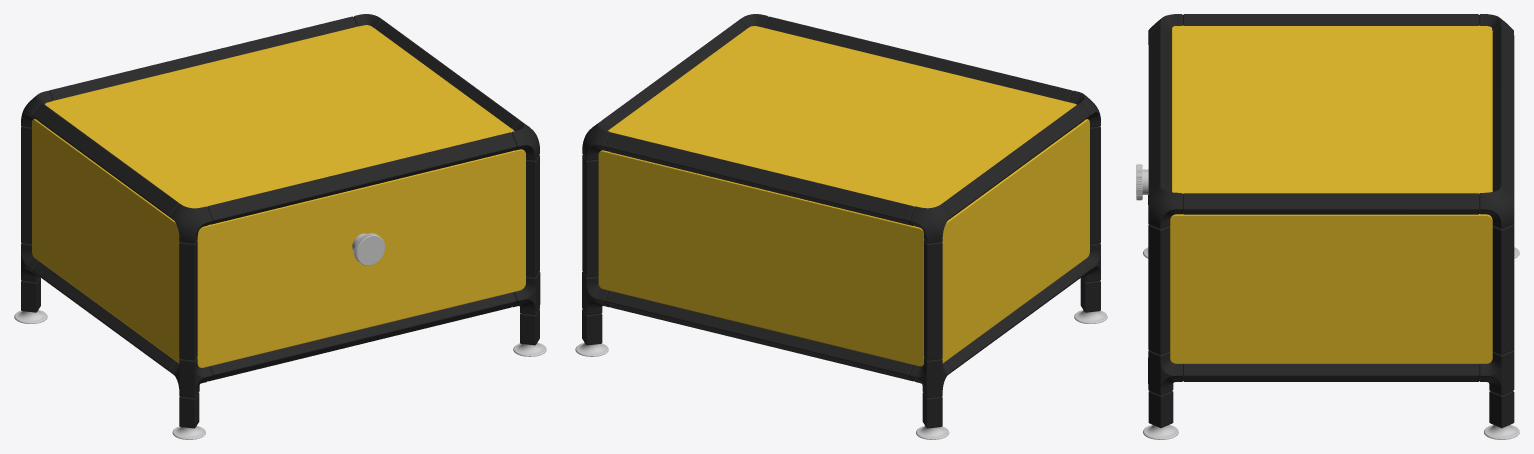
3 renders of one model, left to right at view 1: azimuth 30°, elevation 25°; view 2: azimuth 150°, elevation 25°; view 3: azimuth 270°, elevation 25°, orthographic. The views are drawn at different scales.
Parts seen in each view (by area): view 1: 420x329x154; view 2: 420x329x154; view 3: 420x329x154.
Boxes of the visible parts, left/top/right/bottom form: 420x329x154: left=14, top=14, right=546, bottom=439; 420x329x154: left=575, top=14, right=1107, bottom=439; 420x329x154: left=1136, top=14, right=1519, bottom=439.
Size of the model in its own units: 0.5099 by 0.2933 by 0.4257.
